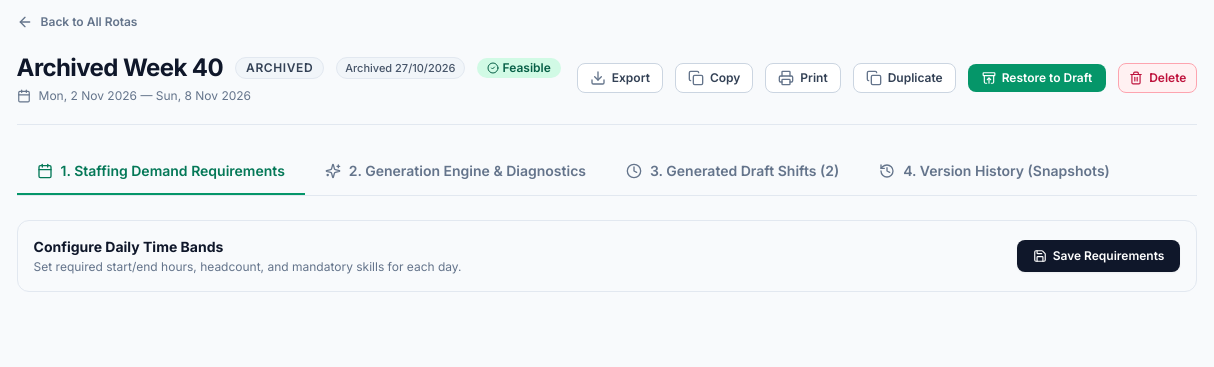
Test: Milestone 7 Frontend - Exports, History, Clipboard & Lifecycle › handles restoring archived rotas back to draft state
Check: the heading "Archived Week 40" is shown, box [17,52,223,84]
Check: the text "archived" is shown, box [235,57,324,79]
Click the button "Restore to Draft" at {"x": 1037, "y": 78}, box [968,64,1106,92]
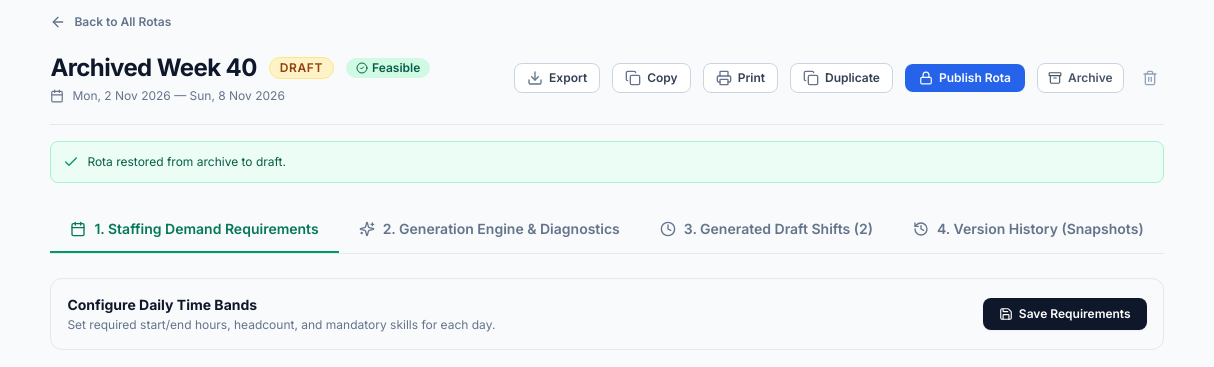
Check: the text "Rota restored from archive to draft." is shown, box [87,154,286,170]
